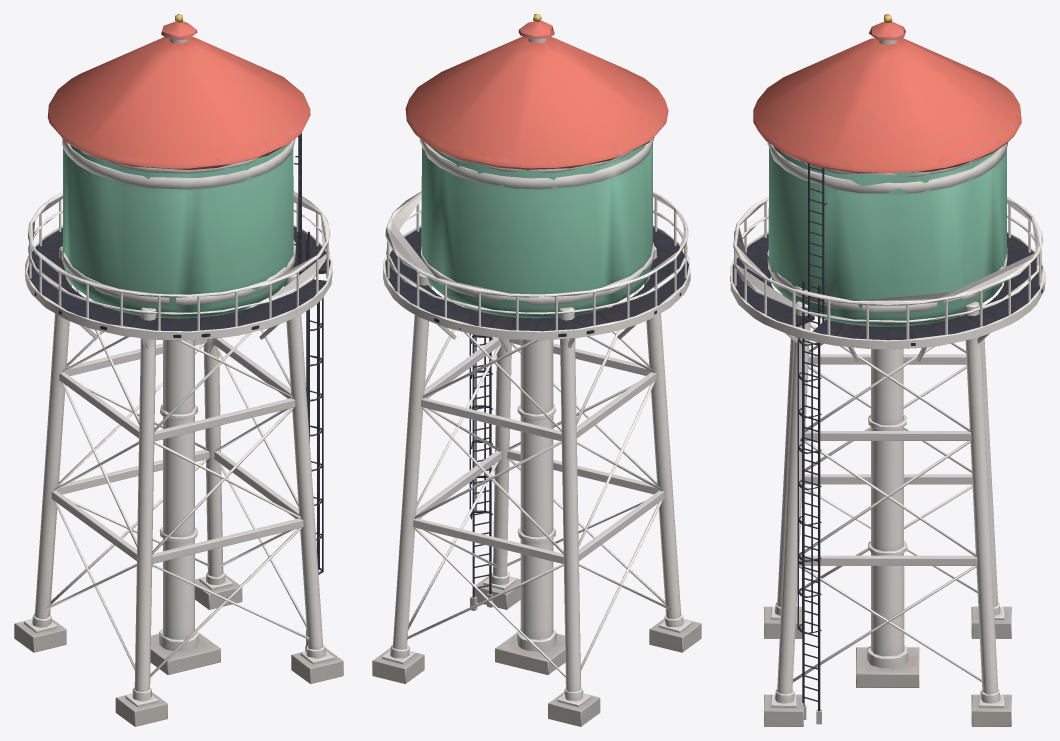
The model's file is water-tower.glb.
The picture shows the model from 3 angles, left to right: view 1: azimuth 30°, elevation 25°; view 2: azimuth 150°, elevation 25°; view 3: azimuth 270°, elevation 25°; orthographic projection. The views are drawn at different scales.
Parts seen in each view (by area): view 1: water-tower_body, water-tower_railing; view 2: water-tower_body, water-tower_railing; view 3: water-tower_body, water-tower_railing.
Part boxes in pixels (left/top/right/bottom): water-tower_body: left=14, top=14, right=343, bottom=726; water-tower_railing: left=28, top=133, right=330, bottom=651; water-tower_body: left=372, top=14, right=701, bottom=726; water-tower_railing: left=385, top=191, right=688, bottom=610; water-tower_body: left=730, top=14, right=1045, bottom=726; water-tower_railing: left=733, top=163, right=1042, bottom=724.
Size of the model in its own units: 7.96 by 18.33 by 7.95.
2 materials, 2 textured.
